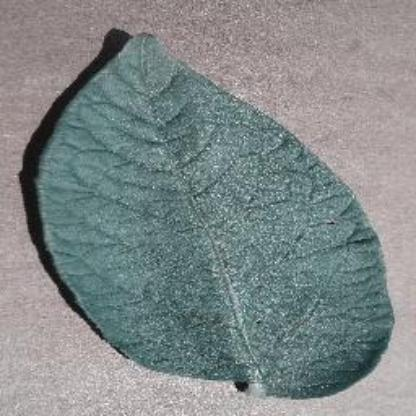Healthy-plant: (27, 34, 388, 402)
